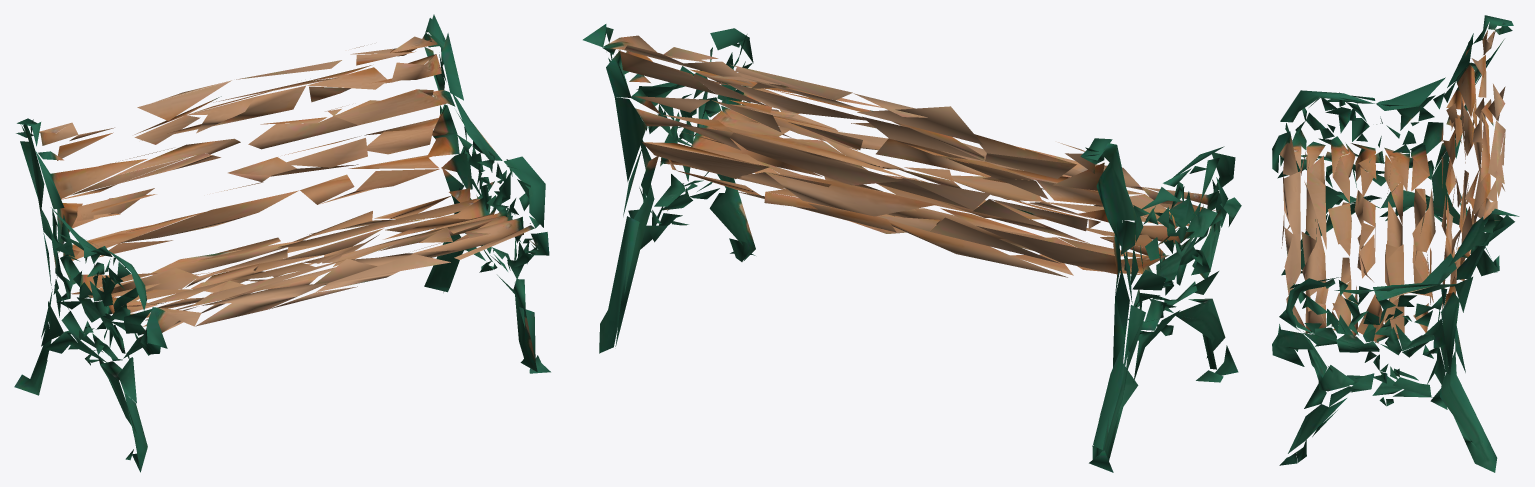
The model's file is cp_bench.glb.
3 renders of one model, left to right at view 1: azimuth 30°, elevation 25°; view 2: azimuth 150°, elevation 25°; view 3: azimuth 270°, elevation 25°, orthographic. The views are drawn at different scales.
Parts seen in each view (by area): view 1: tripo_node_898a3326-af9d-4f30-8cda-f0e14c94b4b4; view 2: tripo_node_898a3326-af9d-4f30-8cda-f0e14c94b4b4; view 3: tripo_node_898a3326-af9d-4f30-8cda-f0e14c94b4b4.
Part boxes in pixels (x1,y1,x2,y2): tripo_node_898a3326-af9d-4f30-8cda-f0e14c94b4b4: (14, 14, 550, 472); tripo_node_898a3326-af9d-4f30-8cda-f0e14c94b4b4: (583, 24, 1241, 472); tripo_node_898a3326-af9d-4f30-8cda-f0e14c94b4b4: (1272, 15, 1519, 472).
Size of the model in its own units: 1.03 by 0.6346 by 0.5324.
1 material, 1 textured.
